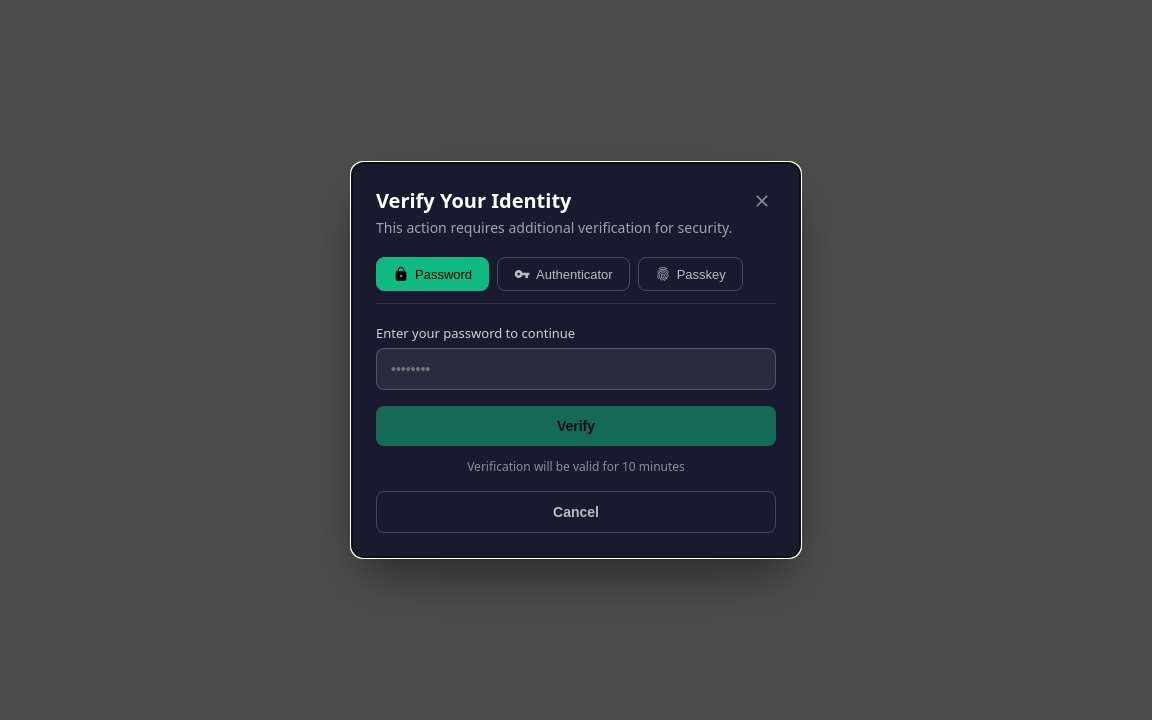
Test: ReverificationModal › password form › should enable submit button when password is entered
Type "testpassword" into the password field labelled "password".
click(576, 369); type("testpassword")  # box [376, 348, 776, 390]
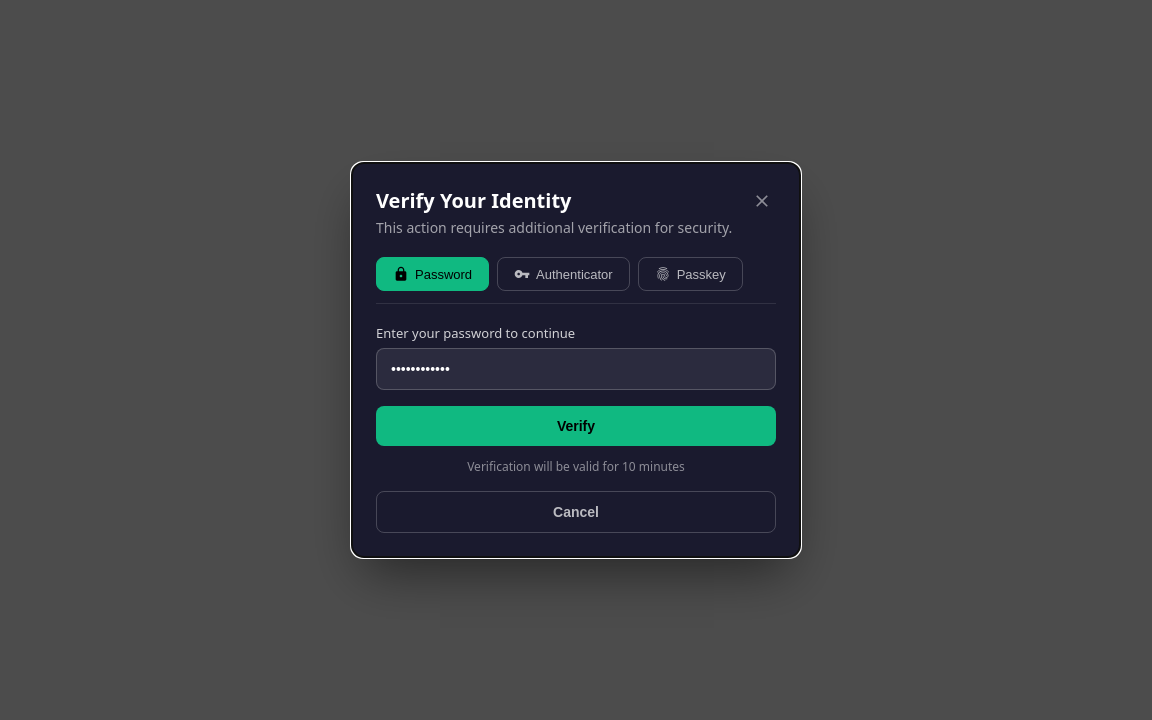
expect the button labelled "Verify" is enabled: met, box [376, 406, 776, 446]
